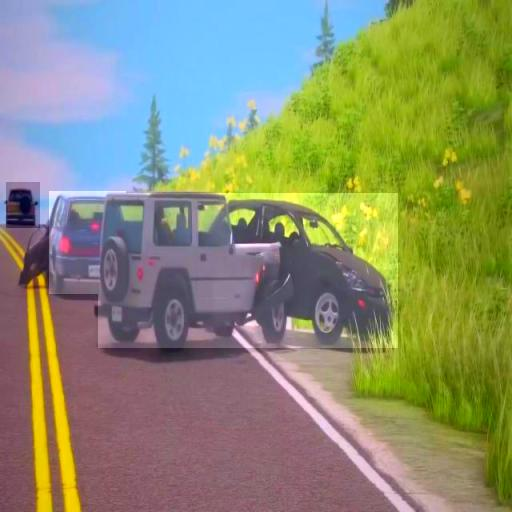小汽车: (49, 191, 126, 294), (6, 182, 40, 228)
小汽车撞小汽车: (98, 193, 398, 348)
